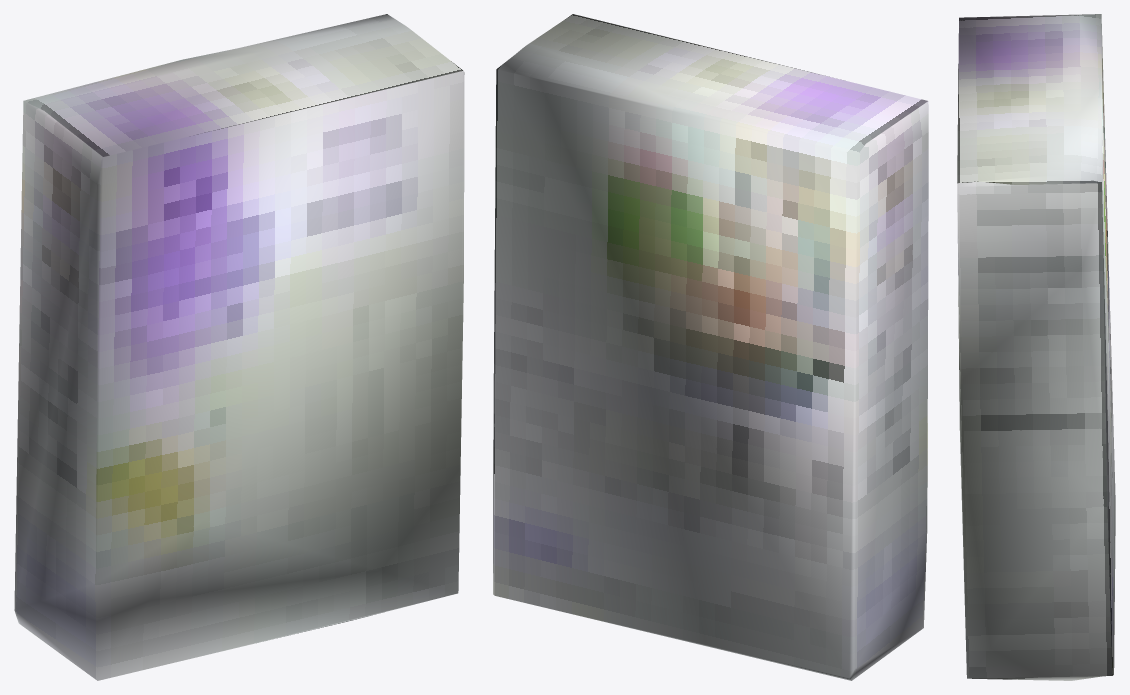
The model's file is ReadytoUse_Rolled_Fondant_Pure_White_24_oz_box-low.glb.
3 views of the same model, side by side, from view 1: azimuth 30°, elevation 25°; view 2: azimuth 150°, elevation 25°; view 3: azimuth 270°, elevation 25° (orthographic). The views are drawn at different scales.
Visible parts, largest first — view 1: ReadytoUse_Rolled_Fondant_Pure_White_24_oz_box; view 2: ReadytoUse_Rolled_Fondant_Pure_White_24_oz_box; view 3: ReadytoUse_Rolled_Fondant_Pure_White_24_oz_box.
Part boxes in pixels (box(x1,y1,x2,y2)): ReadytoUse_Rolled_Fondant_Pure_White_24_oz_box: box(14, 14, 464, 680); ReadytoUse_Rolled_Fondant_Pure_White_24_oz_box: box(493, 14, 928, 680); ReadytoUse_Rolled_Fondant_Pure_White_24_oz_box: box(957, 14, 1115, 680).
Bounding box in the file's own units: 0.1209 × 0.1684 × 0.0478.
Materials: 1 (1 with a texture image).
